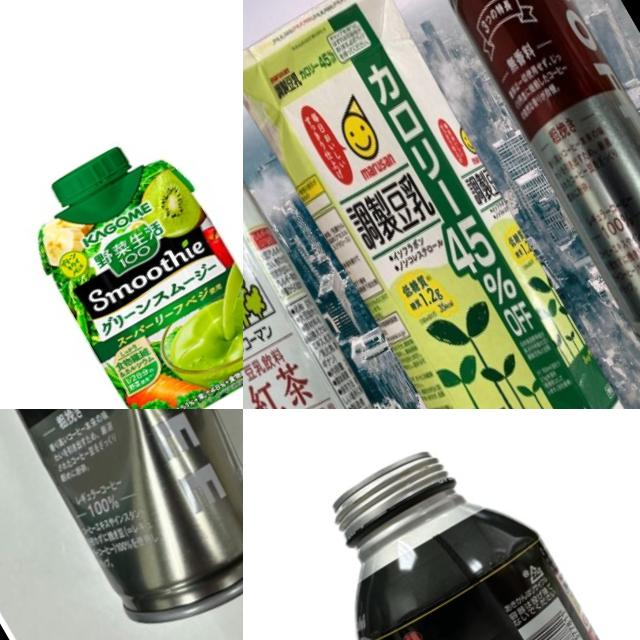Aluminium Foil: (243, 0, 640, 409), (243, 89, 468, 409), (0, 115, 243, 409)
Can: (280, 410, 638, 640), (419, 0, 640, 360), (0, 409, 243, 640), (117, 409, 243, 563)
